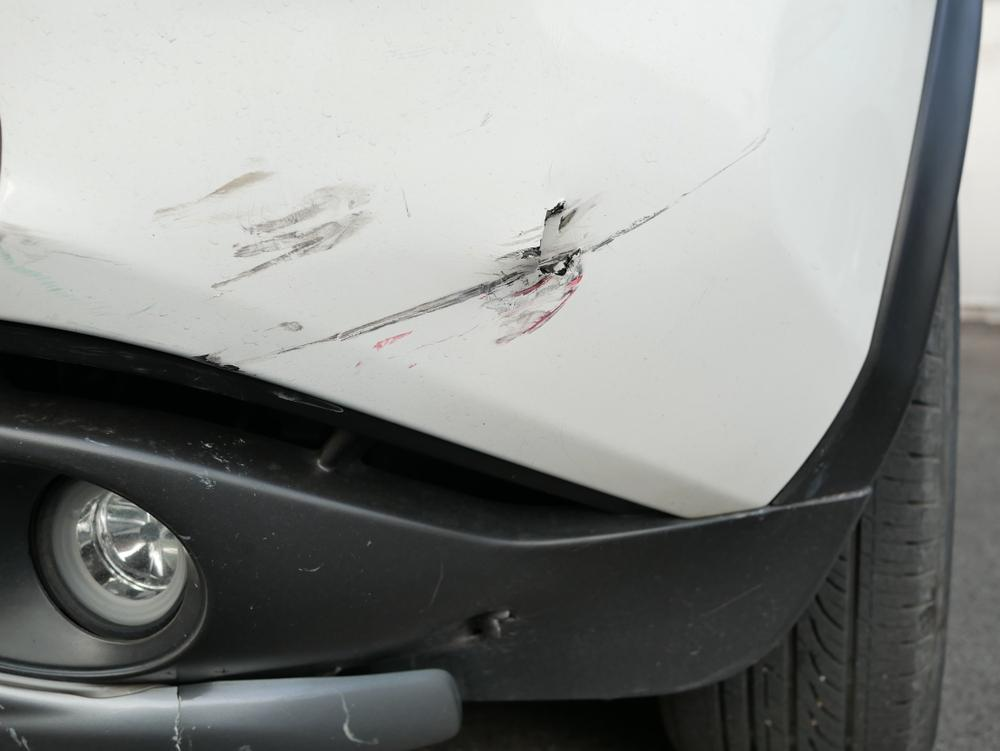crack: (175, 684, 184, 751)
scratch: (152, 126, 775, 379)
